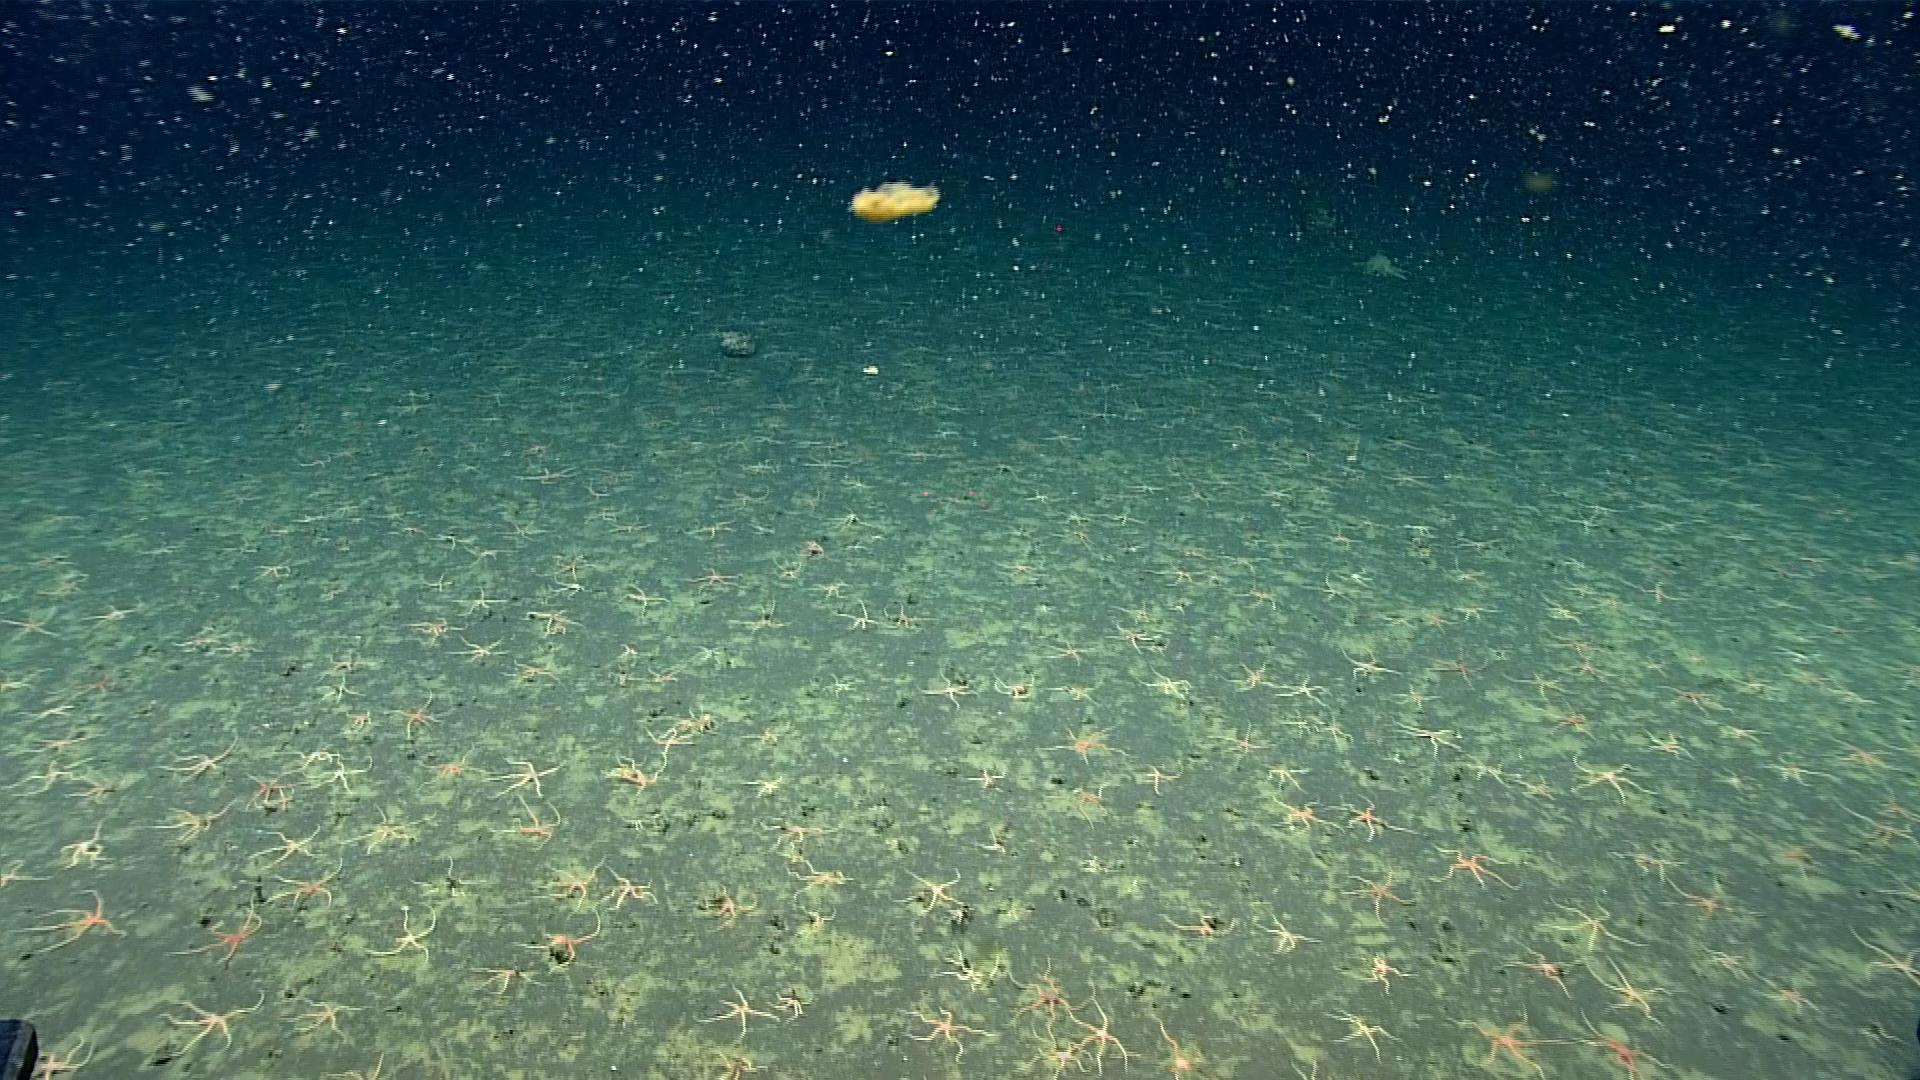brittle_sea_star: (1451, 1005, 1575, 1079), (11, 887, 128, 955), (1571, 1004, 1671, 1079), (157, 990, 265, 1058), (164, 898, 262, 971), (1005, 959, 1085, 1035), (1549, 897, 1652, 956), (1494, 934, 1582, 998), (1586, 957, 1667, 1023), (899, 1004, 990, 1062), (513, 910, 603, 967), (144, 794, 237, 847), (1, 753, 102, 802), (338, 803, 429, 855), (695, 990, 782, 1042), (1428, 840, 1516, 890), (1853, 930, 1919, 993), (1656, 876, 1746, 922), (1071, 1000, 1127, 1072), (1021, 1018, 1085, 1079), (266, 860, 345, 909), (367, 909, 435, 964), (287, 994, 371, 1039), (1325, 1010, 1399, 1060), (491, 794, 560, 847), (894, 864, 960, 918), (1569, 758, 1651, 802), (1345, 870, 1415, 920), (407, 855, 483, 901), (160, 741, 245, 781), (377, 692, 448, 740), (541, 857, 603, 911), (1046, 723, 1126, 764), (1838, 802, 1908, 848), (754, 814, 837, 852), (249, 825, 323, 868), (1336, 798, 1410, 840), (1266, 793, 1337, 836), (33, 1033, 99, 1079), (1352, 948, 1416, 994), (405, 746, 480, 786), (488, 756, 562, 795), (930, 945, 990, 992), (690, 890, 752, 934), (59, 820, 115, 868), (786, 861, 855, 899), (1390, 717, 1458, 756), (640, 724, 696, 770), (1253, 915, 1316, 956), (1163, 907, 1238, 942), (1207, 721, 1271, 761), (467, 960, 541, 994), (600, 869, 659, 911), (1834, 736, 1896, 775), (306, 756, 372, 793), (448, 583, 514, 620), (911, 669, 971, 709), (1154, 1022, 1195, 1079), (1758, 754, 1830, 786), (679, 562, 742, 597), (1344, 647, 1404, 684), (601, 753, 659, 790), (1451, 753, 1513, 787), (243, 773, 295, 812), (444, 633, 508, 666), (401, 613, 464, 646), (729, 600, 790, 634), (1621, 847, 1679, 882), (26, 724, 104, 750), (0, 604, 55, 641), (1509, 669, 1578, 698), (1662, 683, 1722, 716), (1760, 977, 1815, 1014), (1774, 840, 1822, 881), (1212, 661, 1279, 690), (1433, 654, 1490, 688), (1138, 666, 1193, 700), (1865, 785, 1917, 820), (616, 583, 673, 616), (505, 654, 556, 690), (1876, 865, 1919, 907), (1548, 703, 1594, 740), (1065, 782, 1109, 820), (837, 596, 882, 633), (323, 1052, 385, 1079), (521, 609, 578, 637), (1279, 675, 1333, 704), (988, 555, 1047, 582), (547, 574, 599, 604), (1146, 562, 1208, 587), (1643, 731, 1692, 762), (659, 709, 720, 735), (1822, 686, 1883, 711), (1702, 947, 1750, 978), (0, 857, 51, 886), (314, 675, 363, 705), (83, 603, 136, 630), (878, 603, 928, 632), (1109, 624, 1156, 654), (1317, 524, 1369, 551), (1044, 524, 1095, 551), (12, 698, 76, 719), (1309, 576, 1354, 607), (66, 779, 120, 804), (1241, 580, 1282, 613), (1557, 632, 1600, 663), (773, 989, 816, 1019), (712, 1051, 758, 1079), (988, 670, 1031, 699), (1044, 679, 1100, 702), (1261, 762, 1307, 789), (1640, 580, 1687, 607), (1315, 719, 1353, 750), (1135, 764, 1176, 793), (1046, 638, 1091, 665), (1387, 688, 1440, 711), (512, 465, 578, 483), (287, 748, 336, 770), (1125, 600, 1166, 626), (711, 488, 769, 506), (170, 634, 215, 658), (828, 506, 866, 534), (310, 653, 360, 674), (1522, 777, 1561, 803), (1443, 563, 1489, 585), (820, 671, 858, 698), (640, 669, 684, 691), (1712, 723, 1762, 742), (802, 907, 837, 935), (1336, 560, 1371, 588), (744, 775, 787, 798), (961, 767, 1007, 789), (454, 546, 506, 564), (1734, 676, 1774, 700), (1104, 508, 1142, 531), (814, 578, 856, 599), (1573, 658, 1613, 680), (76, 673, 116, 695), (1709, 769, 1750, 790), (1127, 475, 1168, 496), (794, 533, 828, 558), (1420, 612, 1456, 636), (344, 707, 376, 733), (1453, 603, 1501, 620), (1458, 535, 1502, 554), (1286, 712, 1316, 738), (774, 558, 804, 584), (1762, 593, 1801, 613), (214, 637, 251, 658), (749, 728, 783, 749), (837, 472, 878, 489), (980, 831, 1006, 857), (547, 555, 580, 576), (684, 521, 728, 537), (132, 541, 179, 555), (1640, 654, 1671, 676), (255, 563, 294, 580), (1568, 516, 1607, 533), (415, 530, 462, 545), (1254, 484, 1296, 500), (1288, 1060, 1324, 1079), (620, 642, 646, 665), (423, 574, 451, 592), (608, 671, 632, 690), (587, 508, 620, 520), (1030, 491, 1051, 505)
